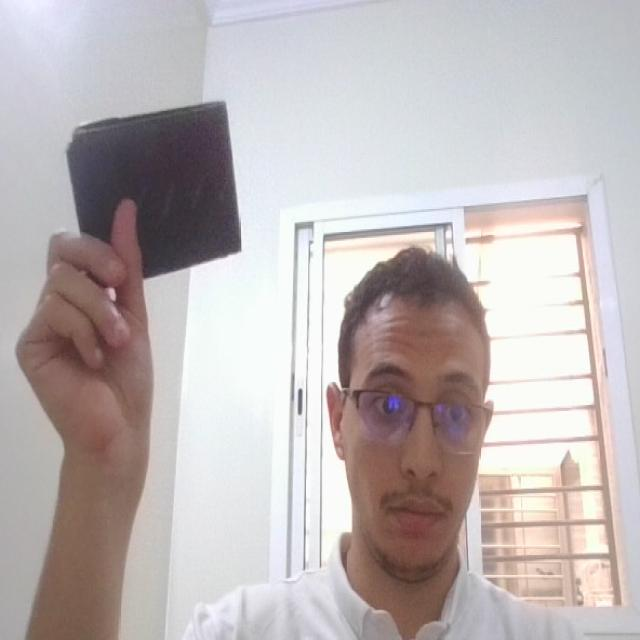wallet: (64, 92, 262, 296)
